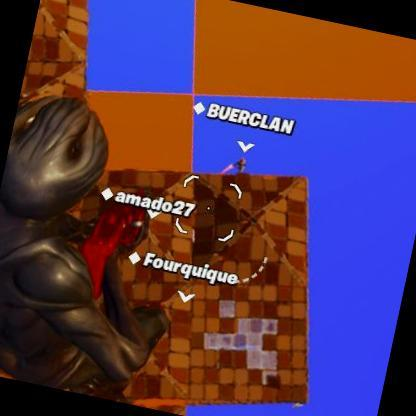person: (233, 156, 250, 172)
